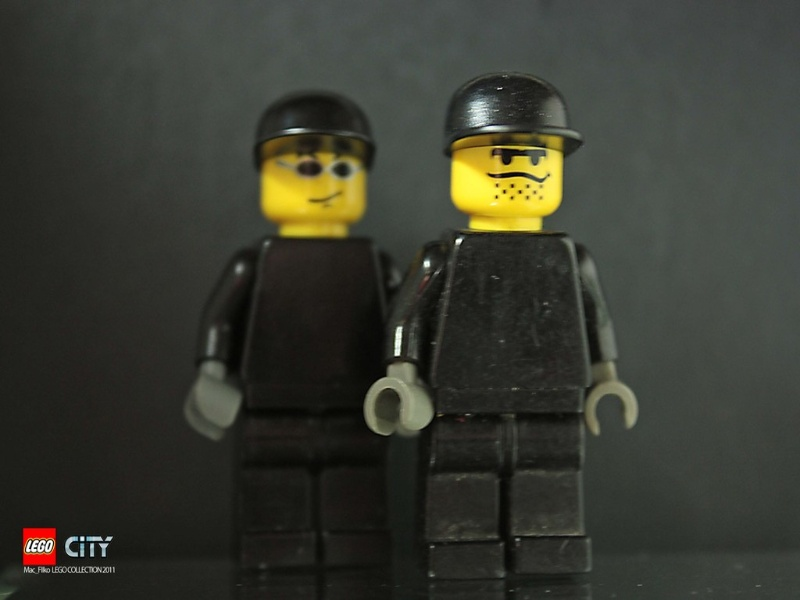helmet: (447, 73, 584, 147), (252, 94, 385, 170)
